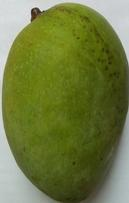Unripe: (0, 1, 129, 203)
